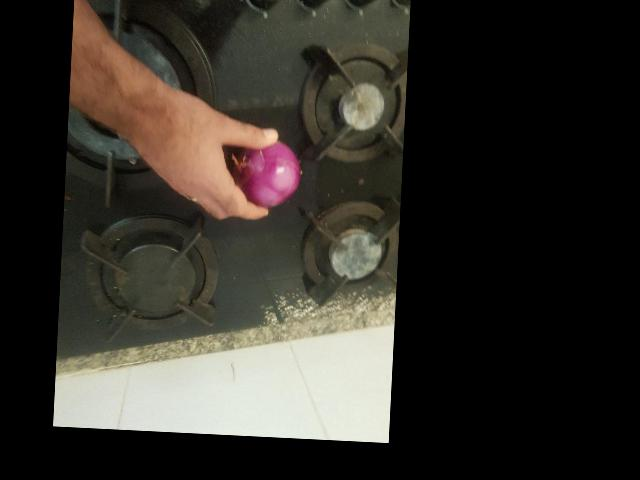onion: (291, 272, 356, 337)
